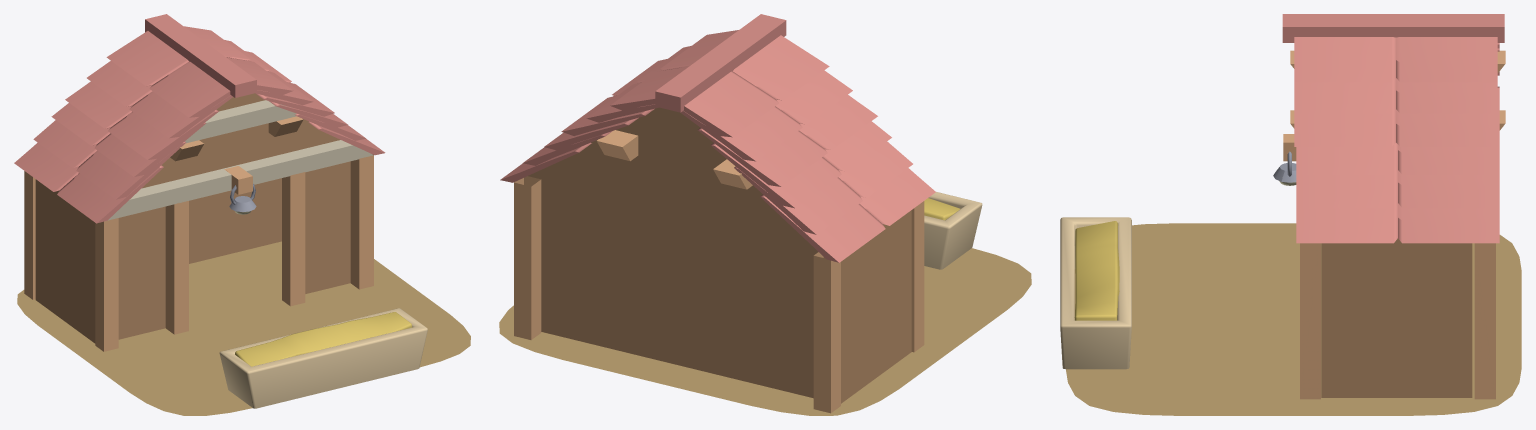
The model's file is SheepBarn.fbx.
3 views of the same model, side by side, from view 1: azimuth 30°, elevation 25°; view 2: azimuth 150°, elevation 25°; view 3: azimuth 270°, elevation 25° (orthographic). The views are drawn at different scales.
Parts seen in each view (by area): view 1: Walls, Ground, Beams, Roof_3, hay_case_one, Roof_1, Beams_1, TopRoof_1, Beams_2, Roof_2, _amp_1; view 2: Walls, Roof_3, Ground, Roof_1, Beams, TopRoof_1, hay_case_one, Roof_2; view 3: Ground, Walls, Roof_3, Roof_2, hay_case_one, Beams, TopRoof_1, _amp_1.
Part boxes in pixels (left/top/right/bottom): Walls: left=35, top=93, right=350, bottom=343; Ground: left=17, top=241, right=470, bottom=415; Beams: left=24, top=116, right=373, bottom=351; Roof_3: left=65, top=26, right=334, bottom=159; hay_case_one: left=219, top=308, right=427, bottom=408; Roof_1: left=14, top=103, right=206, bottom=223; Beams_1: left=108, top=140, right=373, bottom=220; TopRoof_1: left=145, top=14, right=256, bottom=97; Beams_2: left=185, top=100, right=296, bottom=143; Roof_2: left=269, top=82, right=385, bottom=155; _amp_1: left=229, top=184, right=256, bottom=214; Walls: left=528, top=107, right=911, bottom=403; Roof_3: left=561, top=30, right=877, bottom=186; Ground: left=499, top=248, right=1031, bottom=415; Roof_1: left=710, top=121, right=935, bottom=262; Beams: left=514, top=130, right=924, bottom=413; TopRoof_1: left=655, top=14, right=786, bottom=112; hay_case_one: left=924, top=192, right=982, bottom=269; Roof_2: left=500, top=96, right=638, bottom=182; Ground: left=1066, top=223, right=1521, bottom=415; Walls: left=1321, top=238, right=1472, bottom=397; Roof_3: left=1294, top=37, right=1497, bottom=146; Roof_2: left=1296, top=86, right=1499, bottom=243; hay_case_one: left=1060, top=217, right=1131, bottom=369; Beams: left=1283, top=50, right=1505, bottom=399; TopRoof_1: left=1282, top=14, right=1504, bottom=42; _amp_1: left=1273, top=151, right=1296, bottom=185.
Size of the model in its own units: 502 by 361 by 508.
